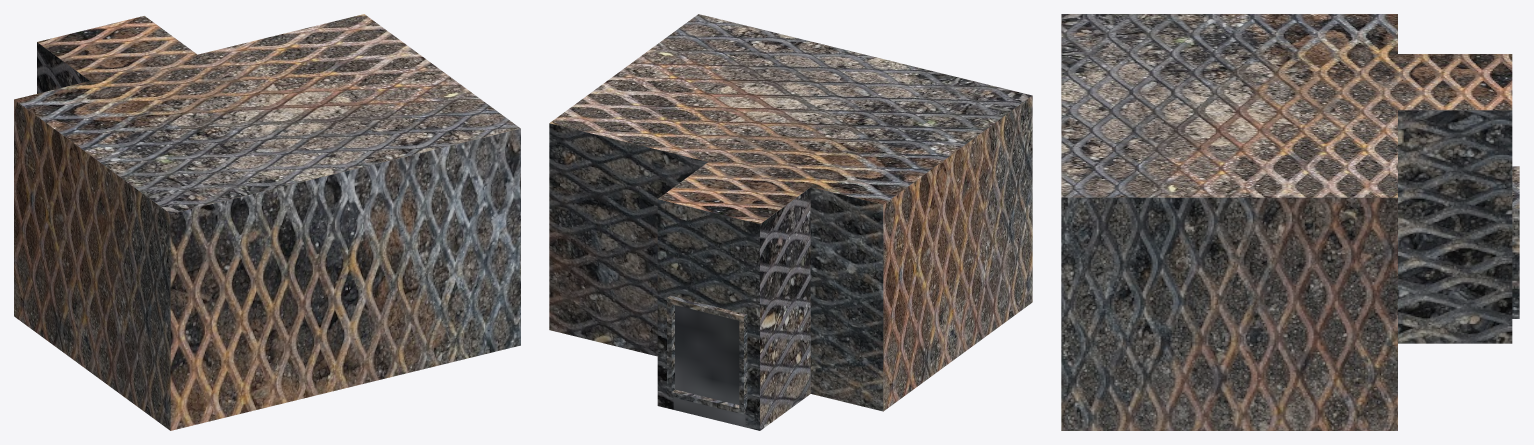
File: indoor_house_door.obj
The picture shows the model from 3 angles, left to right: view 1: azimuth 30°, elevation 25°; view 2: azimuth 150°, elevation 25°; view 3: azimuth 270°, elevation 25°; orthographic projection. The views are drawn at different scales.
Visible parts, largest first — view 1: Cube.002_Cube.003; view 2: Cube.002_Cube.003; view 3: Cube.002_Cube.003.
Boxes of the visible parts, x1,y1,x2,y2 form: Cube.002_Cube.003: (14, 14, 520, 430); Cube.002_Cube.003: (549, 14, 1032, 430); Cube.002_Cube.003: (1061, 14, 1519, 430).
Size of the model in its own units: 9.71 by 5.74 by 10.24.
